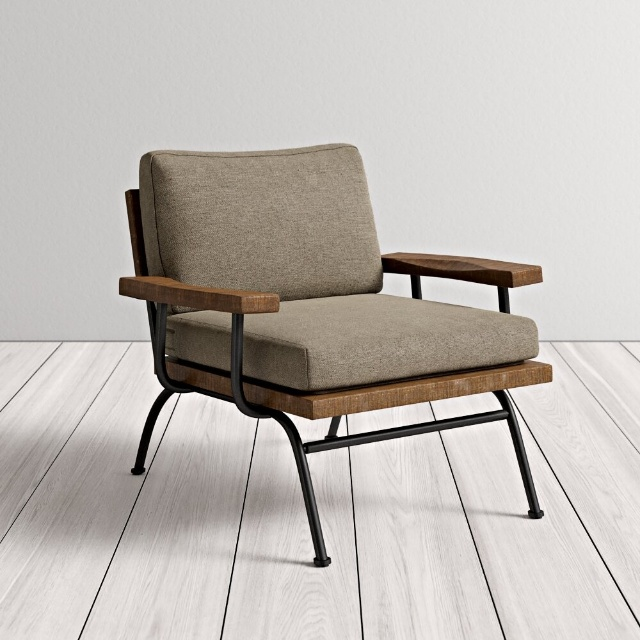obstacle: (120, 144, 551, 566)
